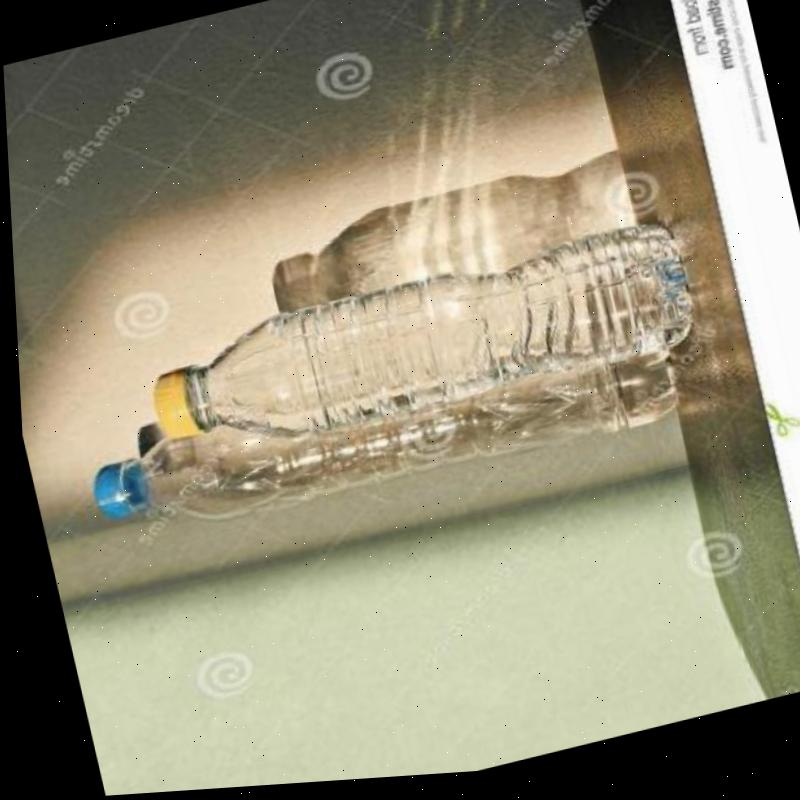botella: (77, 322, 685, 559), (135, 228, 703, 474)
